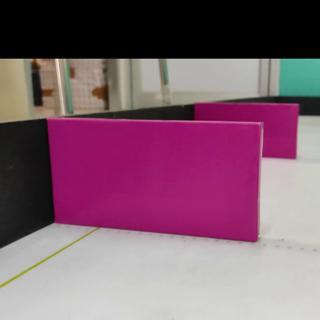xparking: (54, 119, 261, 242), (263, 105, 296, 155)
